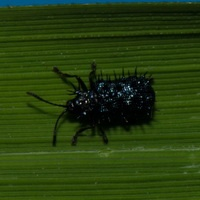insect: (27, 62, 154, 145)
